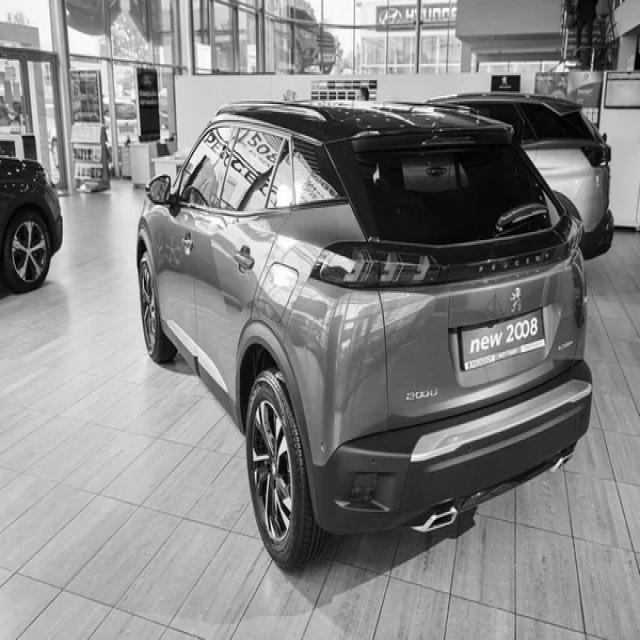Car: (137, 104, 594, 570), (431, 93, 615, 257)
